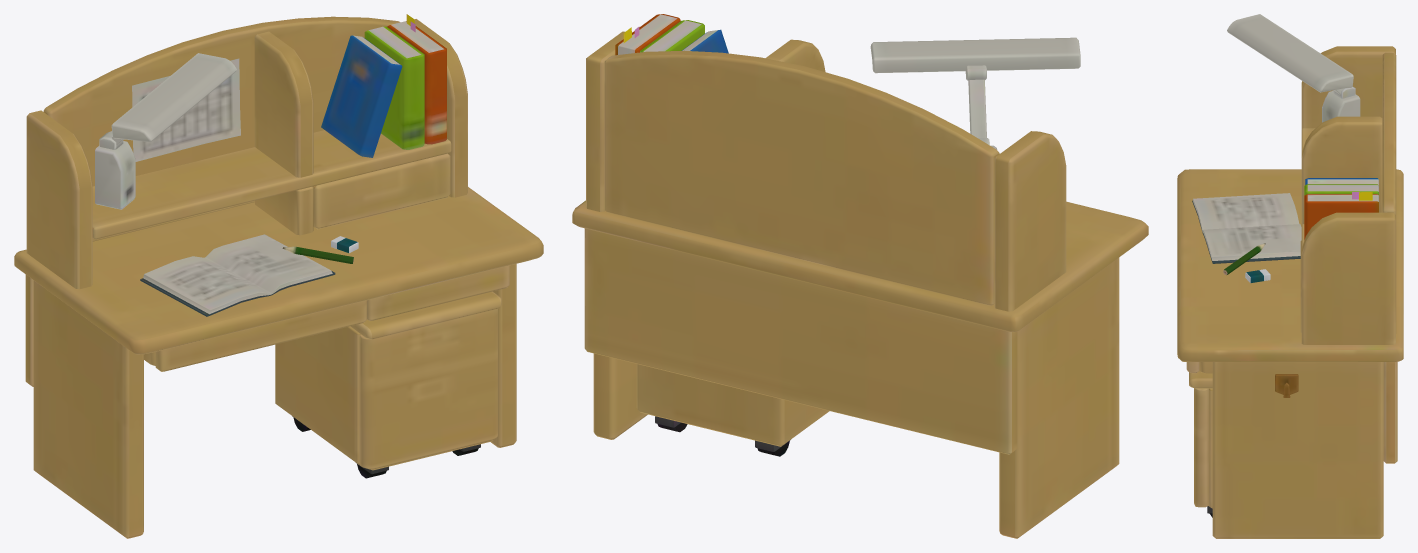
3 renders of one model, left to right at view 1: azimuth 30°, elevation 25°; view 2: azimuth 150°, elevation 25°; view 3: azimuth 270°, elevation 25°, orthographic. The views are drawn at different scales.
Size of the model in its own units: 16.34 by 15.02 by 8.59.
Materials: 1 (1 with a texture image).
